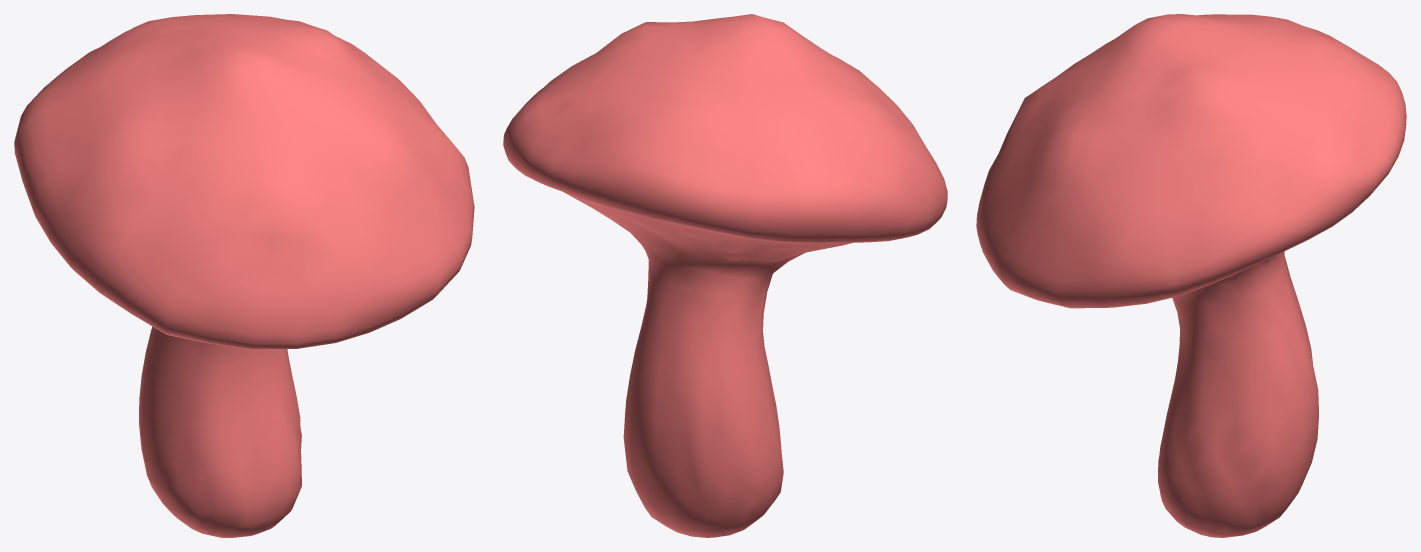
File: Mushroom02.fbx
3 views of the same model, side by side, from view 1: azimuth 30°, elevation 25°; view 2: azimuth 150°, elevation 25°; view 3: azimuth 270°, elevation 25° (orthographic). The views are drawn at different scales.
Visible parts, largest first — view 1: Mushroom; view 2: Mushroom; view 3: Mushroom.
Part boxes in pixels (x1,y1,x2,y2): Mushroom: (14,14,474,537); Mushroom: (503,14,947,537); Mushroom: (976,14,1406,537).
Size of the model in its own units: 2.72 by 3.35 by 2.62.
